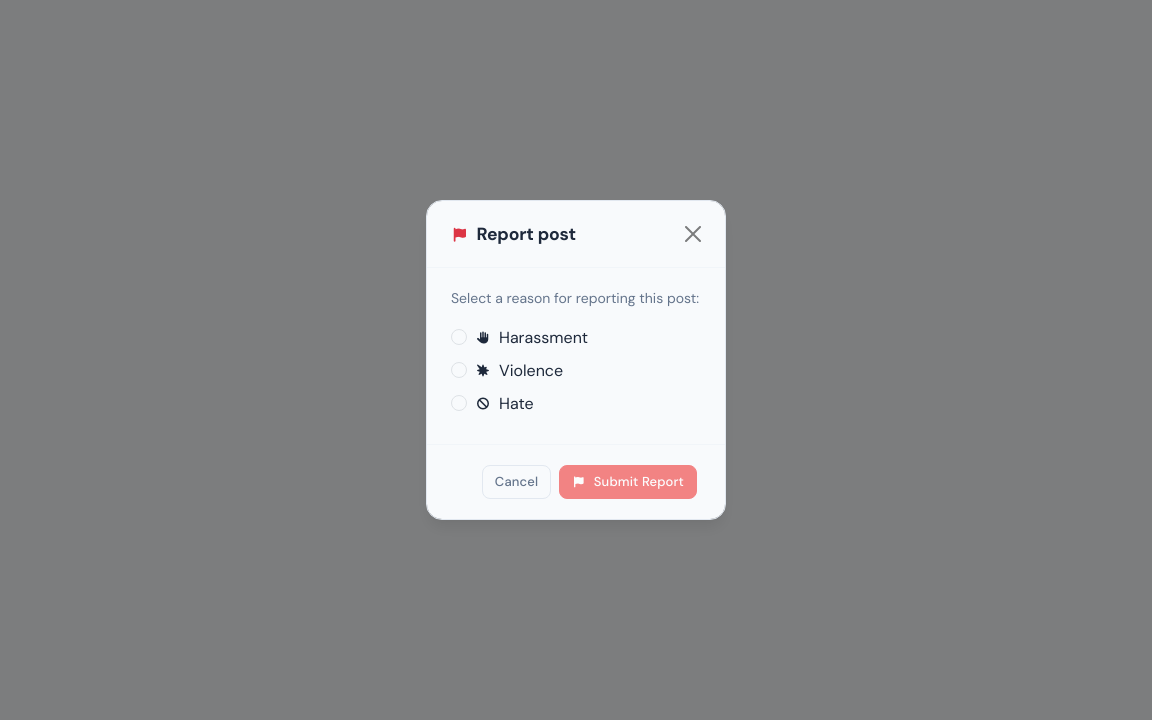
Test: ReportModal › submit button is enabled after selecting a reason
This screenshot has width=1152, height=720.
Click the radio button labelled "Harassment" at (459, 337), box [451,329,467,345]
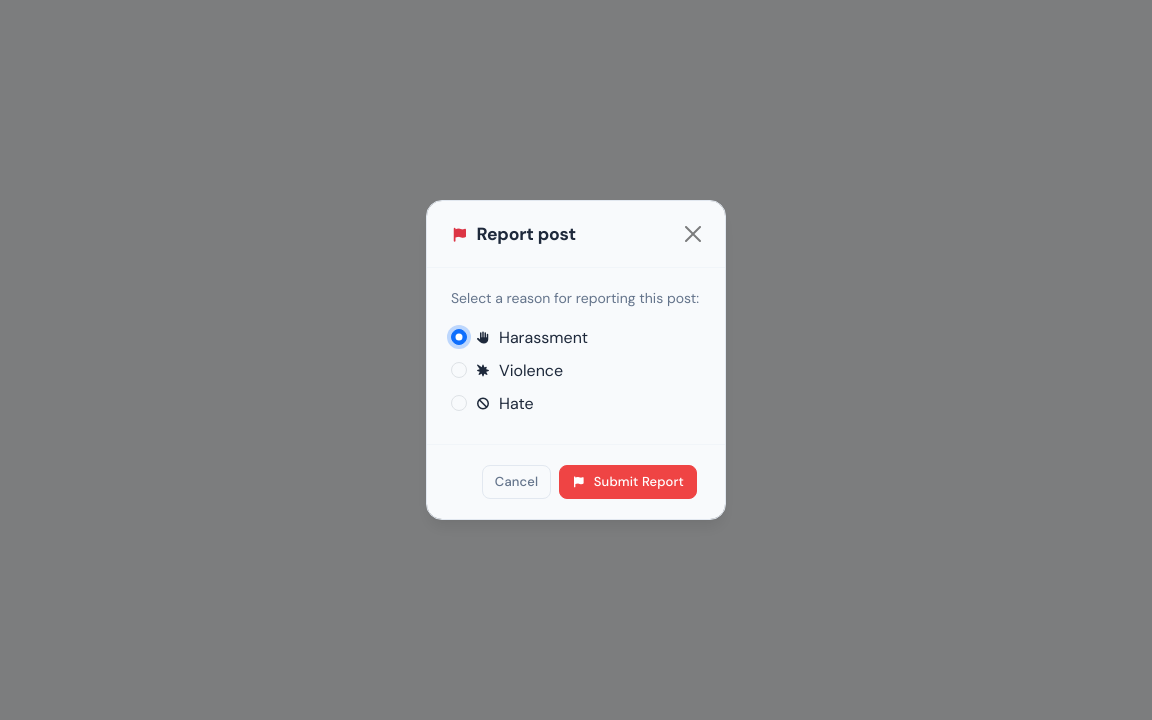
Now the button "Submit Report" is enabled, box [559,465,697,499]
